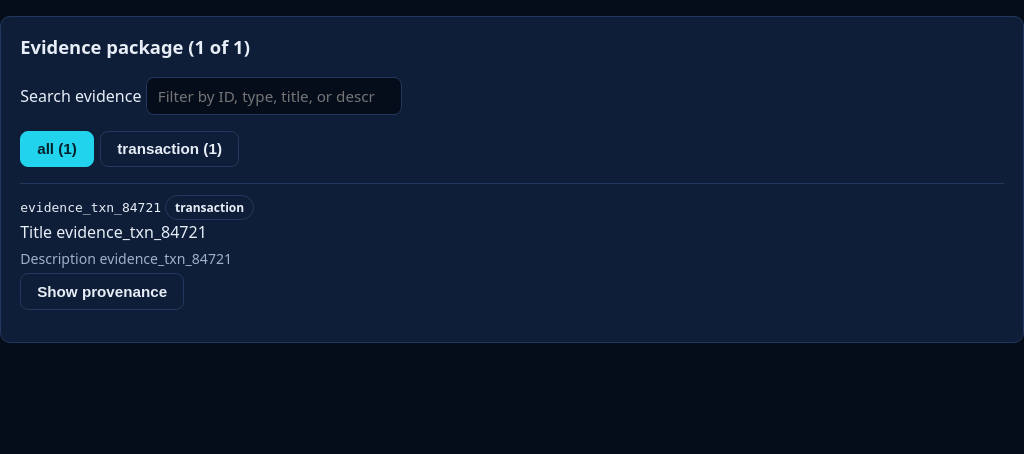
Test: EvidenceList › shows an honest empty state for missing provenance
Click the button "Show provenance" at [102, 292], box 20,273 -> 184,310
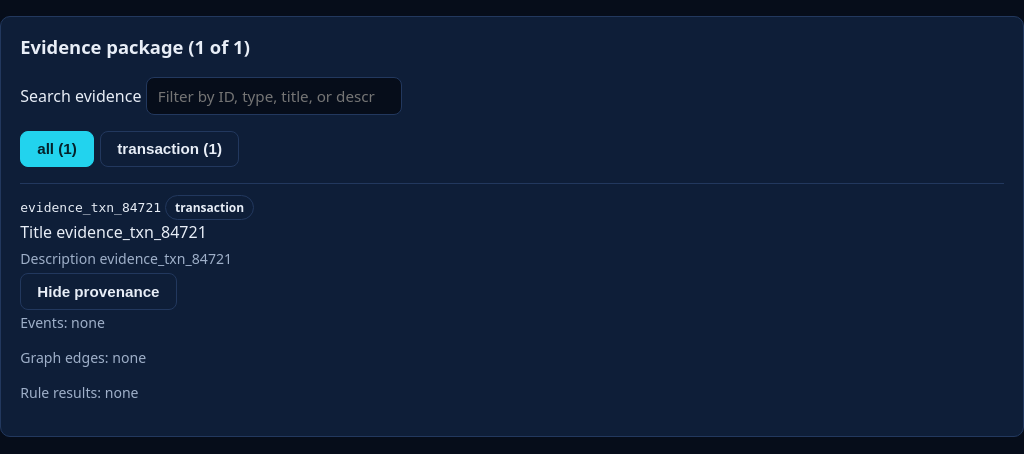
expect the text "none" is shown 3 times: met, box 71,313 -> 105,332; 112,348 -> 146,367; 105,383 -> 139,402
